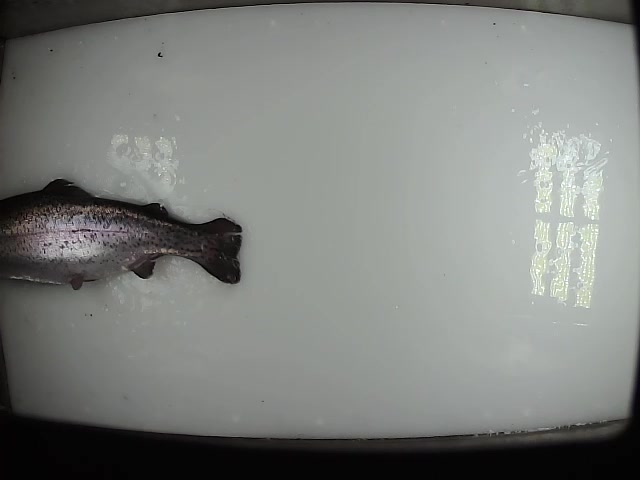fish: (1, 178, 244, 293)
